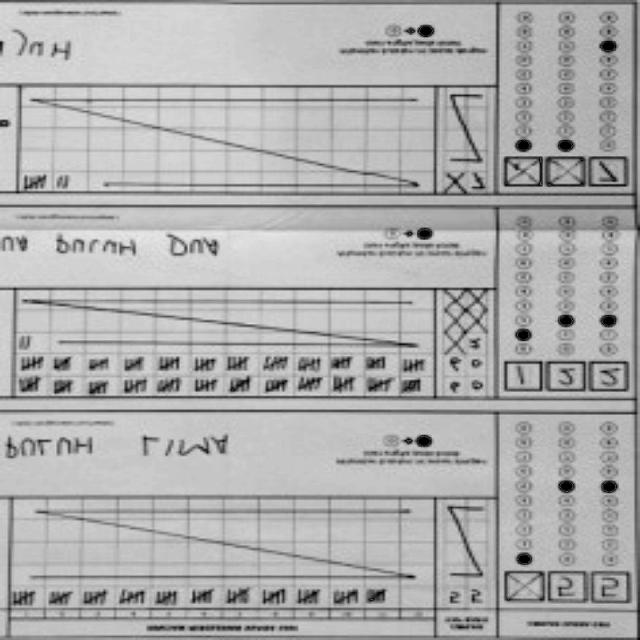Suara: (502, 354, 632, 403), (497, 154, 628, 196), (503, 570, 630, 610)
